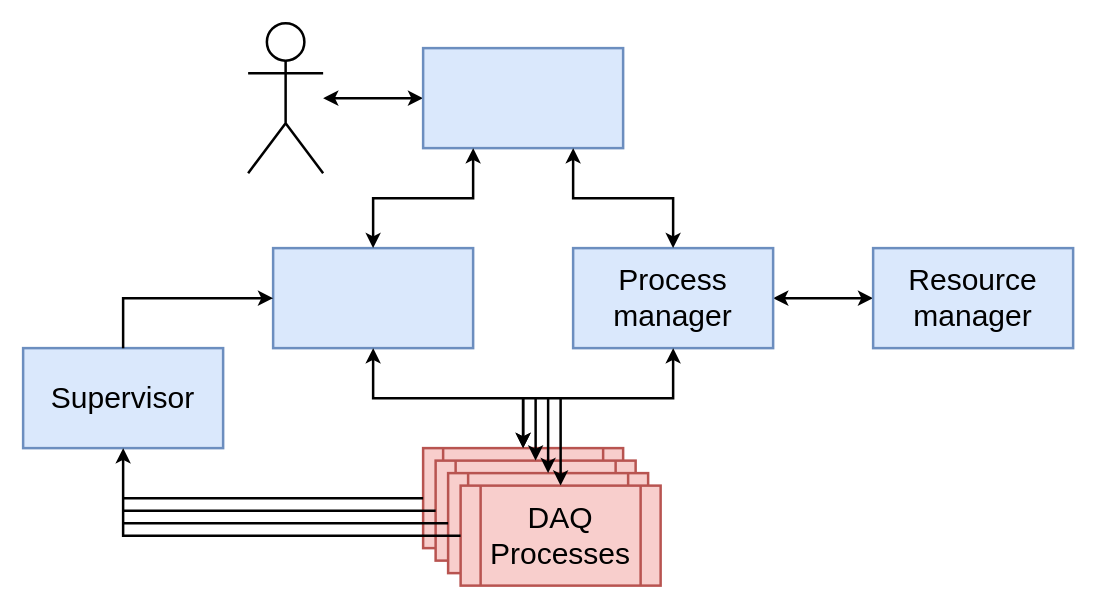
The diagram is 1095 pixels wide and 608 high, and some of its shapes have lost their labels. The shapes that lost their labels are listed below. From the top down, each one's centre as x and y in pixels, then its label:
At point (522, 97): "UI".
At point (372, 297): "Controller".
